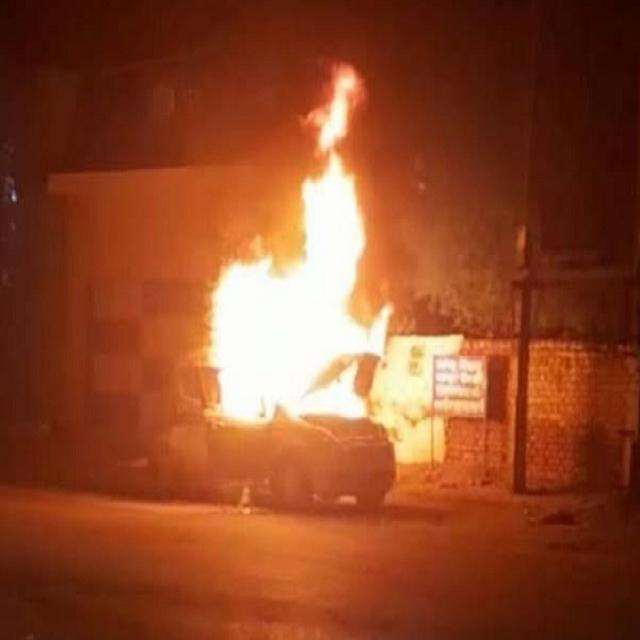fire: (209, 257, 391, 423), (301, 154, 363, 258), (316, 67, 357, 149)
